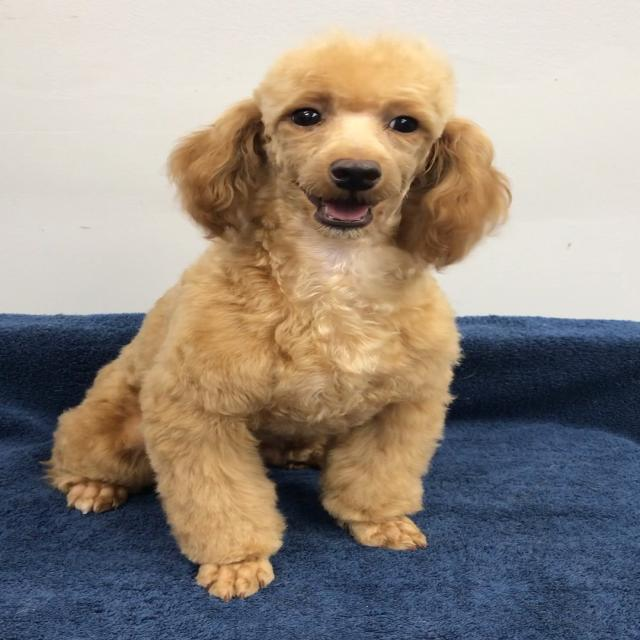Poodle_dog: (171, 28, 521, 278)
